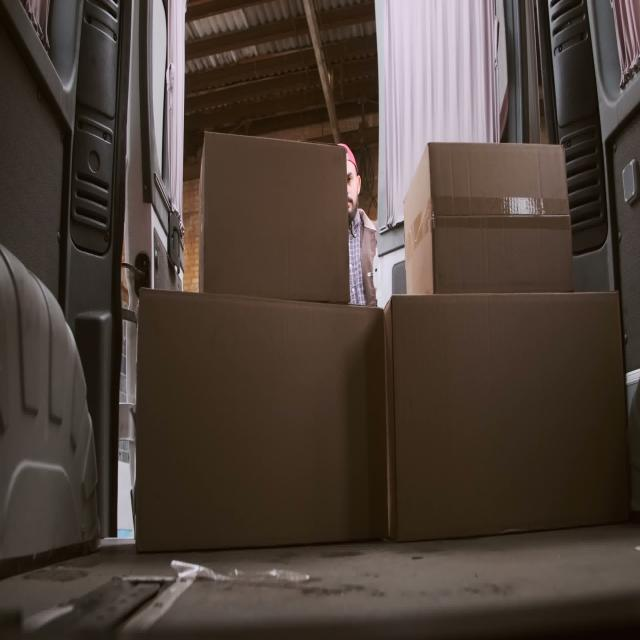counting-the-number-of-boxes: (136, 290, 391, 555), (383, 287, 629, 541), (405, 136, 576, 293), (198, 130, 349, 300)
